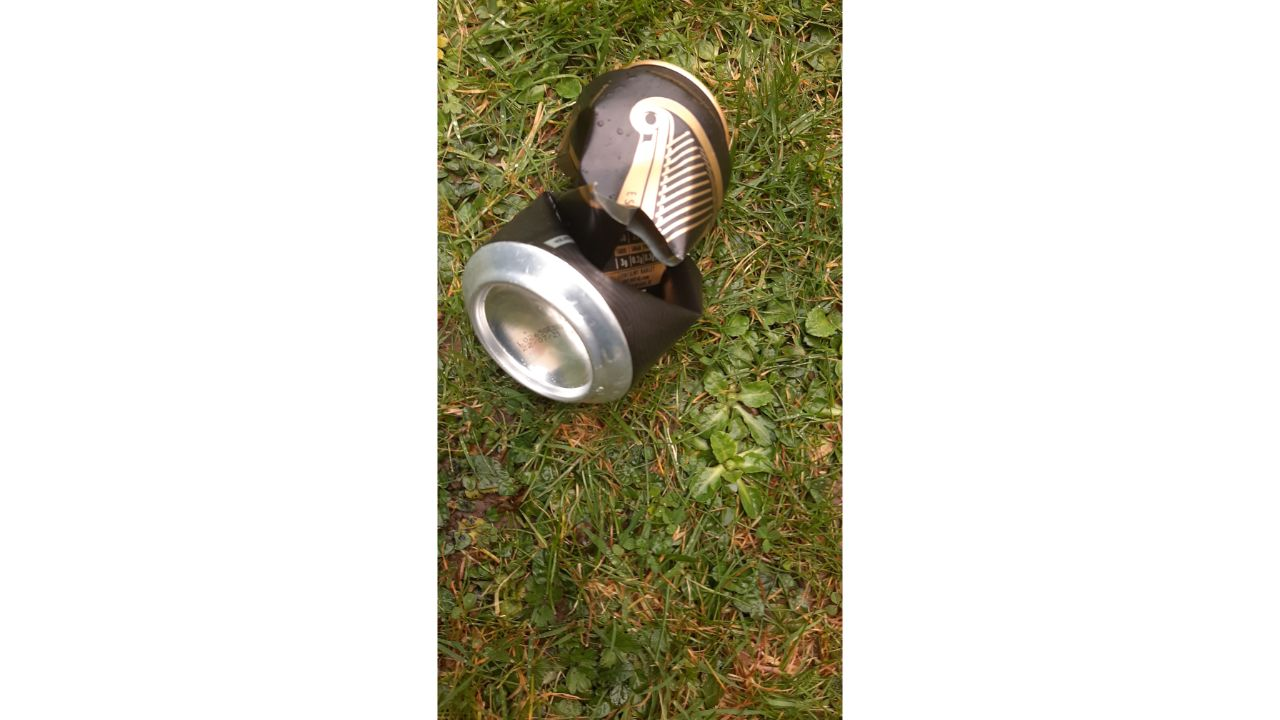Can: (458, 60, 736, 405)
